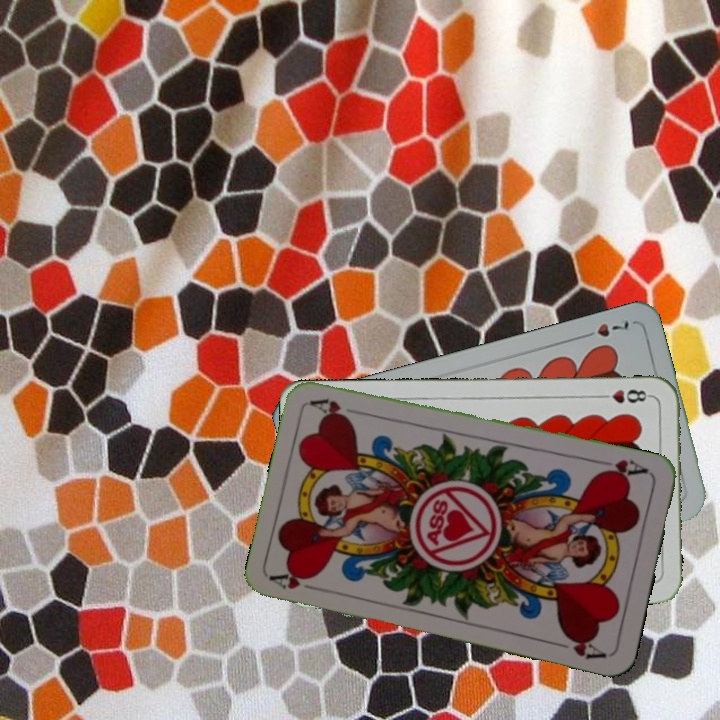H7: (576, 316, 633, 341)
H8: (594, 385, 653, 406)
HA: (268, 566, 327, 595), (593, 455, 651, 482)
